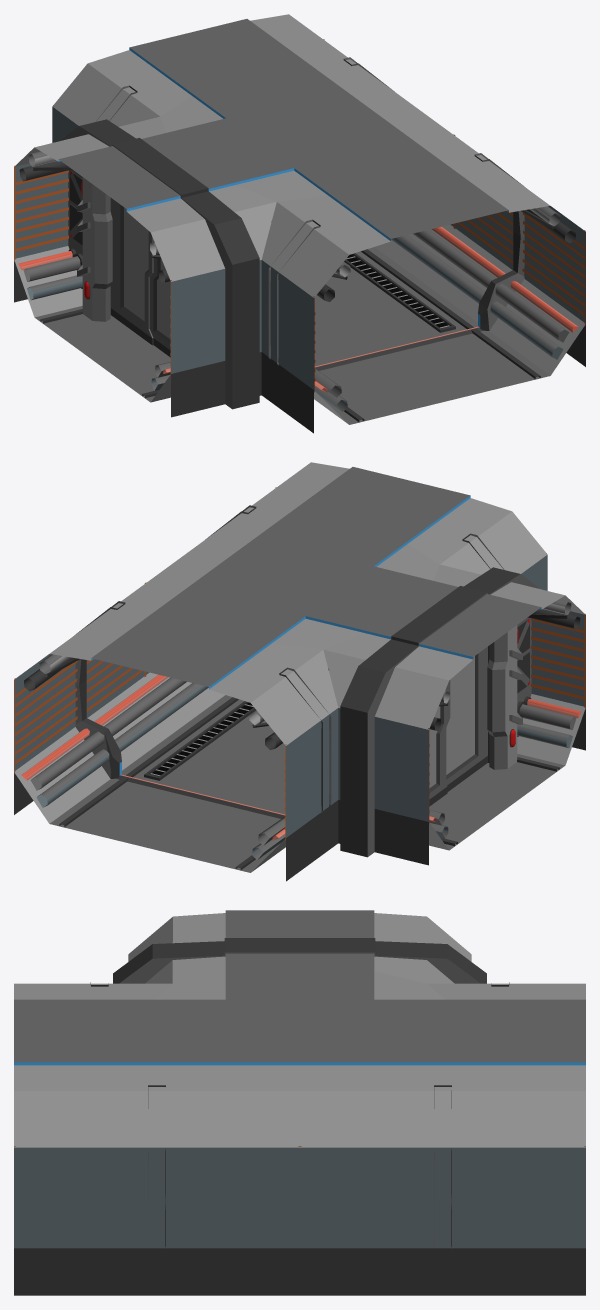
Rendered from Straight_SciFi_Tunnel_Door.fbx.
The picture shows the model from 3 angles, top to bottom: view 1: azimuth 30°, elevation 25°; view 2: azimuth 150°, elevation 25°; view 3: azimuth 270°, elevation 25°; orthographic projection. The views are drawn at different scales.
Parts seen in each view (by area): view 1: Straight_SciFi_Tunnel_Door, Straight_SciFi_Tunnel_Ceiling, Straight_SciFi_Tunnel_West, Straight_SciFi_Tunnel_South, Straight_SciFi_Tunnel_East, Straight_SciFi_Tunnel_North, SciFi_Door_Right, SciFi_Door_Left; view 2: Straight_SciFi_Tunnel_Door, Straight_SciFi_Tunnel_Ceiling, Straight_SciFi_Tunnel_West, Straight_SciFi_Tunnel_North, Straight_SciFi_Tunnel_East, Straight_SciFi_Tunnel_South, SciFi_Door_Left, SciFi_Door_Right; view 3: Straight_SciFi_Tunnel_East, Straight_SciFi_Tunnel_Ceiling, Straight_SciFi_Tunnel_Door, Straight_SciFi_Tunnel_South, Straight_SciFi_Tunnel_North.
Part boxes in pixels (left/top/right/bottom): Straight_SciFi_Tunnel_Door: left=14, top=119, right=585, bottom=433; Straight_SciFi_Tunnel_Ceiling: left=35, top=14, right=550, bottom=254; Straight_SciFi_Tunnel_West: left=52, top=63, right=350, bottom=392; Straight_SciFi_Tunnel_South: left=150, top=202, right=276, bottom=375; Straight_SciFi_Tunnel_East: left=323, top=39, right=585, bottom=330; Straight_SciFi_Tunnel_North: left=14, top=147, right=73, bottom=261; SciFi_Door_Right: left=111, top=198, right=153, bottom=345; SciFi_Door_Left: left=149, top=240, right=170, bottom=357; Straight_SciFi_Tunnel_Door: left=14, top=567, right=585, bottom=881; Straight_SciFi_Tunnel_Ceiling: left=49, top=462, right=564, bottom=702; Straight_SciFi_Tunnel_West: left=249, top=511, right=547, bottom=840; Straight_SciFi_Tunnel_North: left=323, top=649, right=449, bottom=823; Straight_SciFi_Tunnel_East: left=14, top=487, right=276, bottom=778; Straight_SciFi_Tunnel_South: left=527, top=595, right=585, bottom=709; SciFi_Door_Left: left=443, top=646, right=487, bottom=791; SciFi_Door_Right: left=429, top=685, right=447, bottom=806; Straight_SciFi_Tunnel_East: left=14, top=1085, right=585, bottom=1248; Straight_SciFi_Tunnel_Ceiling: left=14, top=910, right=585, bottom=1090; Straight_SciFi_Tunnel_Door: left=14, top=938, right=585, bottom=1295; Straight_SciFi_Tunnel_South: left=128, top=917, right=172, bottom=983; Straight_SciFi_Tunnel_North: left=427, top=917, right=471, bottom=983.
Size of the model in its own units: 804 by 374 by 1000.
